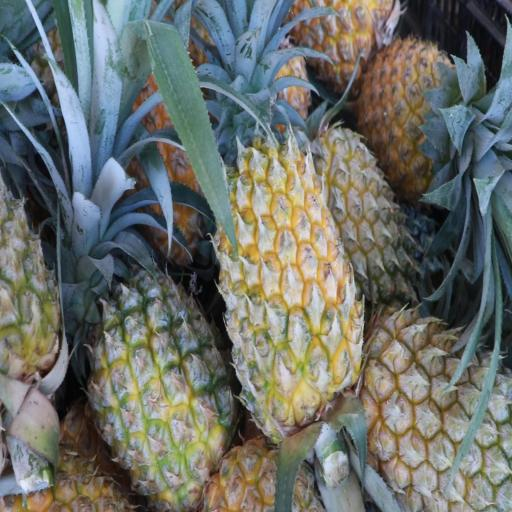Pineapple - v8 v1: (228, 142, 364, 430), (97, 268, 232, 494), (366, 36, 466, 184)
